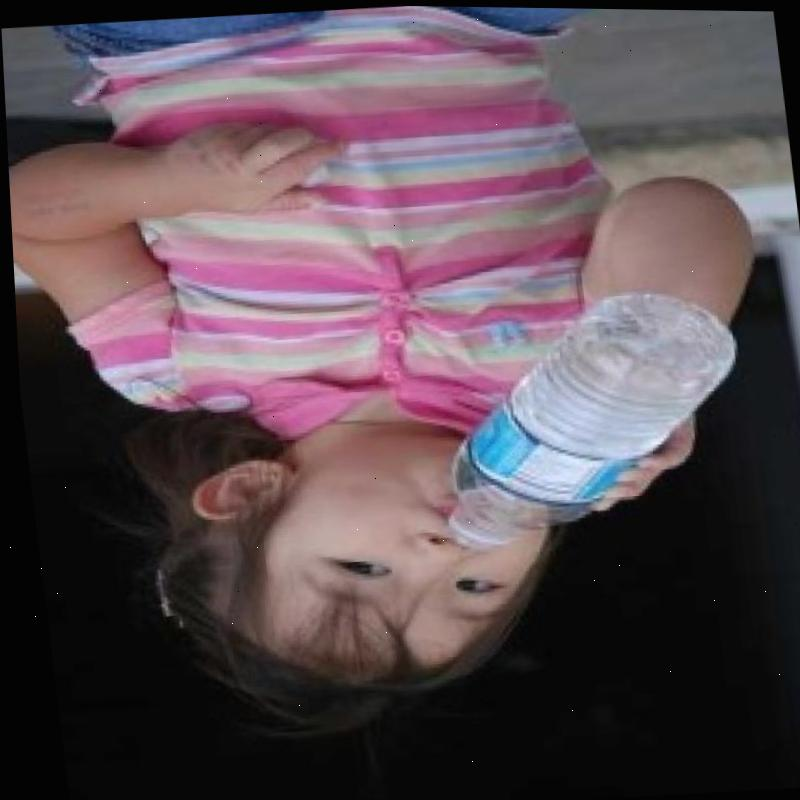botella: (416, 278, 754, 551)
